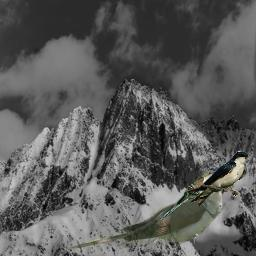Cuckoo: (66, 180, 223, 252), (158, 170, 220, 222)
Swallow: (185, 151, 249, 206)
